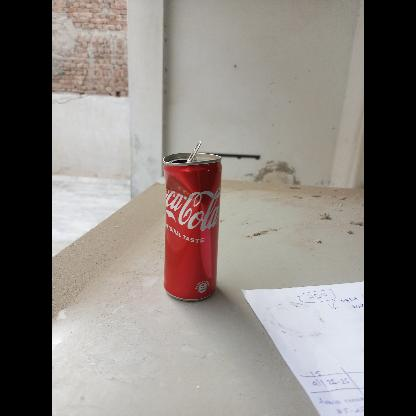Dent_Can: (166, 168, 221, 240)
Lid_Open: (172, 138, 202, 166)
Tin_Can: (160, 138, 222, 304)
